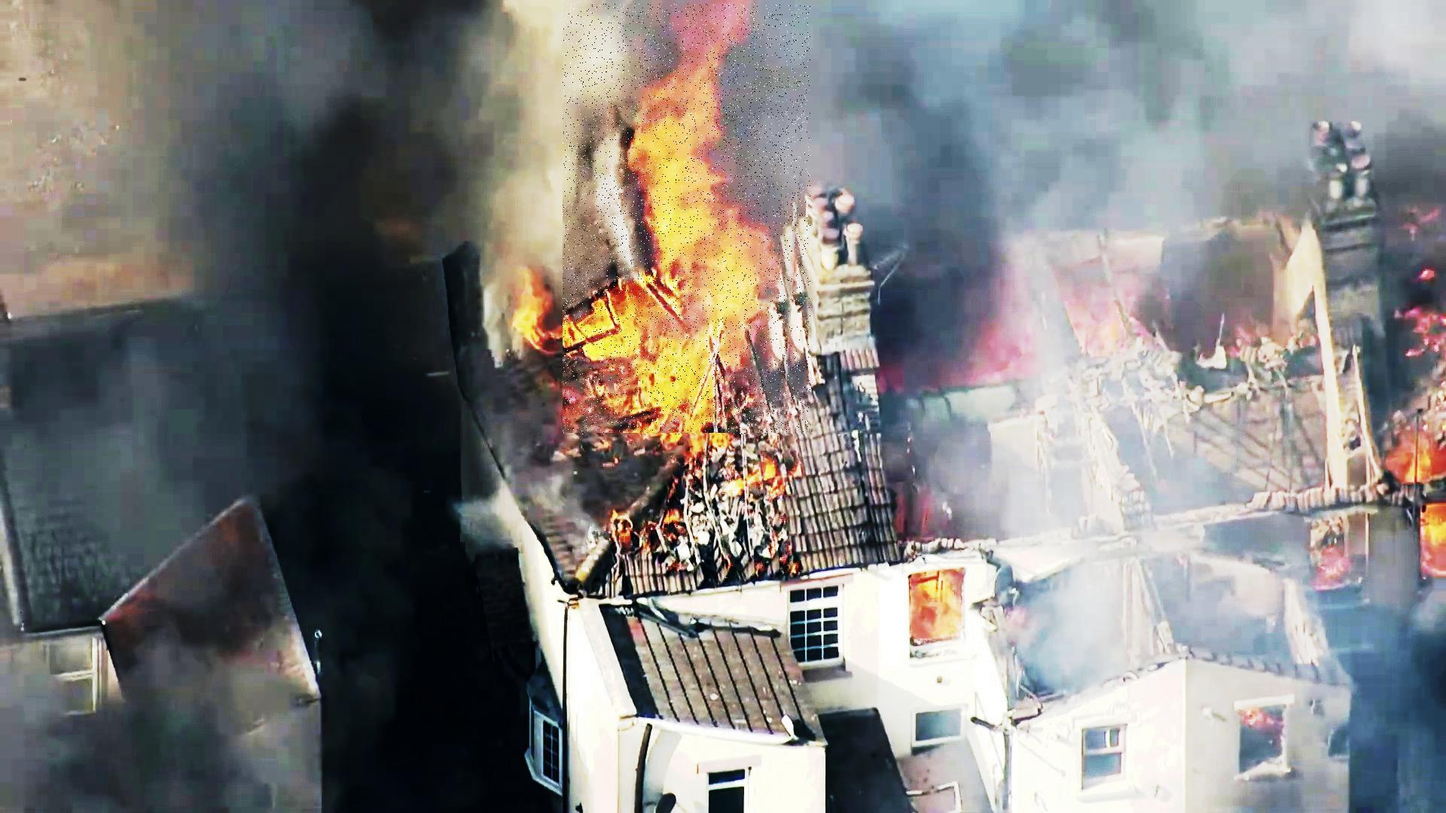fire: (563, 4, 811, 435)
